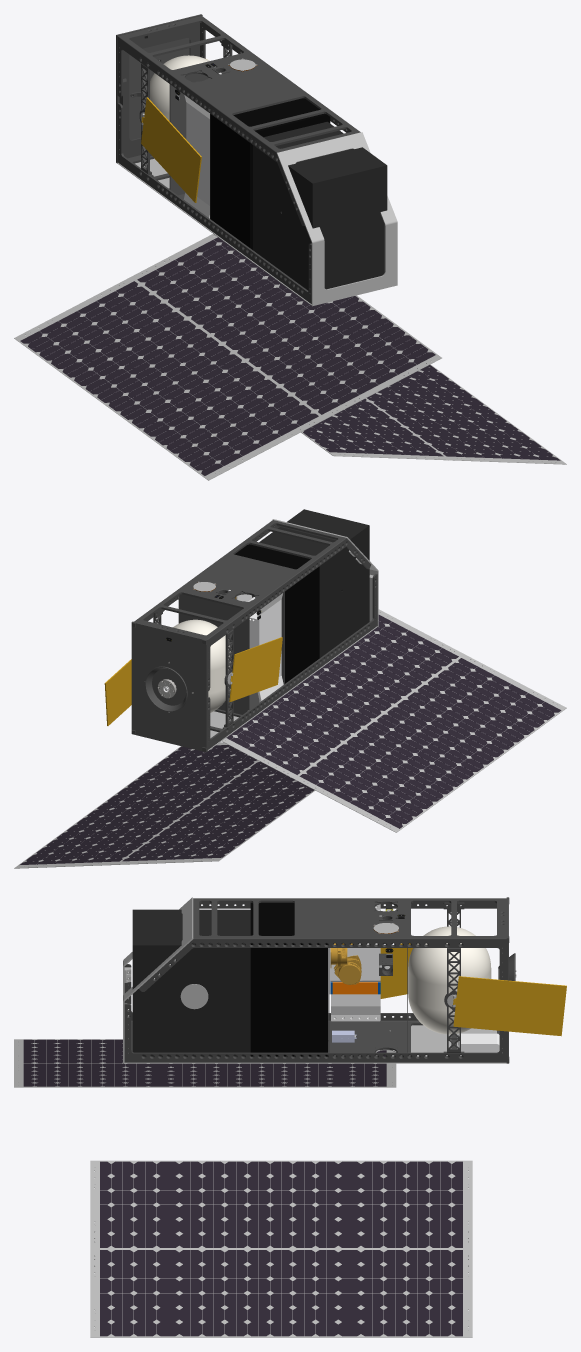
The model's file is ASSEM.glb.
3 views of the same model, one above another, from view 1: azimuth 30°, elevation 25°; view 2: azimuth 150°, elevation 25°; view 3: azimuth 270°, elevation 25° (orthographic). The views are drawn at different scales.
Visible parts, largest first — view 1: space.CATPart-1, skeleton.CATPart-1, ssppaaccee.CATPart-1, Solar_extra1.CATProduct-4/palte_EX.CATPart-1, Solar_extra1.CATProduct-3/palte_EX.CATPart-1, Base_Front.CATPart-1, pin.CATPart-2, skeleton_N.CATPart-1, Base.CATPart-1, Solar_extra1.CATProduct-2/palte_EX.CATPart-1, bracket.CATPart-1, Act_pannel.CATPart-1 (+5 smaller); view 2: Act_pannel.CATPart-1, skeleton.CATPart-1, space.CATPart-1, Solar_extra1.CATProduct-4/palte_EX.CATPart-1, ssppaaccee.CATPart-1, Solar_extra1.CATProduct-3/palte_EX.CATPart-1, skeleton_N.CATPart-1, pin.CATPart-2, Solar_extra1.CATProduct-2/palte_EX.CATPart-1, Partition.CATPart-2, Solar_extra1.CATProduct-1/palte_EX.CATPart-1, Fuel.CATPart-1 (+5 smaller); view 3: space.CATPart-1, skeleton.CATPart-1, ssppaaccee.CATPart-1, skeleton_N.CATPart-1, Solar_extra1.CATProduct-2/palte_EX.CATPart-1, Solar_extra1.CATProduct-1/palte_EX.CATPart-1, pin.CATPart-1, Fuel.CATPart-1, Solar_extra1.CATProduct-3/palte_EX.CATPart-1, under.CATPart-1, bracket.CATPart-1, Base_Front.CATPart-1 (+8 smaller).
Boxes of the visible parts, x1=… form: space.CATPart-1: x1=253, y1=121, x2=387, y2=290; skeleton.CATPart-1: x1=117, y1=15, x2=360, y2=225; ssppaaccee.CATPart-1: x1=210, y1=98, x2=330, y2=249; Solar_extra1.CATProduct-4/palte_EX.CATPart-1: x1=14, y1=277, x2=325, y2=480; Solar_extra1.CATProduct-3/palte_EX.CATPart-1: x1=131, y1=234, x2=441, y2=419; Base_Front.CATPart-1: x1=276, y1=132, x2=397, y2=306; pin.CATPart-2: x1=141, y1=97, x2=201, y2=202; skeleton_N.CATPart-1: x1=117, y1=103, x2=311, y2=303; Base.CATPart-1: x1=116, y1=14, x2=202, y2=162; Solar_extra1.CATProduct-2/palte_EX.CATPart-1: x1=366, y1=364, x2=566, y2=464; bracket.CATPart-1: x1=183, y1=95, x2=209, y2=218; Act_pannel.CATPart-1: x1=116, y1=15, x2=196, y2=157; Act_pannel.CATPart-1: x1=131, y1=623, x2=206, y2=750; skeleton.CATPart-1: x1=134, y1=520, x2=371, y2=691; space.CATPart-1: x1=259, y1=509, x2=369, y2=657; Solar_extra1.CATProduct-4/palte_EX.CATPart-1: x1=294, y1=654, x2=566, y2=832; ssppaaccee.CATPart-1: x1=234, y1=544, x2=319, y2=683; Solar_extra1.CATProduct-3/palte_EX.CATPart-1: x1=222, y1=609, x2=463, y2=778; skeleton_N.CATPart-1: x1=207, y1=574, x2=377, y2=749; pin.CATPart-2: x1=229, y1=637, x2=282, y2=701; Solar_extra1.CATProduct-2/palte_EX.CATPart-1: x1=14, y1=742, x2=258, y2=868; Partition.CATPart-2: x1=177, y1=594, x2=249, y2=714; Solar_extra1.CATProduct-1/palte_EX.CATPart-1: x1=116, y1=760, x2=315, y2=864; Fuel.CATPart-1: x1=169, y1=619, x2=231, y2=712; space.CATPart-1: x1=132, y1=909, x2=250, y2=1056; skeleton.CATPart-1: x1=139, y1=898, x2=506, y2=991; ssppaaccee.CATPart-1: x1=250, y1=902, x2=327, y2=1056; skeleton_N.CATPart-1: x1=124, y1=964, x2=506, y2=1062; Solar_extra1.CATProduct-2/palte_EX.CATPart-1: x1=90, y1=1249, x2=472, y2=1337; Solar_extra1.CATProduct-1/palte_EX.CATPart-1: x1=90, y1=1160, x2=472, y2=1248; pin.CATPart-1: x1=453, y1=976, x2=566, y2=1036; Fuel.CATPart-1: x1=408, y1=926, x2=491, y2=1034; Solar_extra1.CATProduct-3/palte_EX.CATPart-1: x1=14, y1=1063, x2=396, y2=1087; under.CATPart-1: x1=124, y1=1025, x2=506, y2=1063; bracket.CATPart-1: x1=331, y1=904, x2=380, y2=1021; Base_Front.CATPart-1: x1=123, y1=897, x2=193, y2=1063.
Bounding box in the file's own units: 1.63 × 1.3 × 2.
